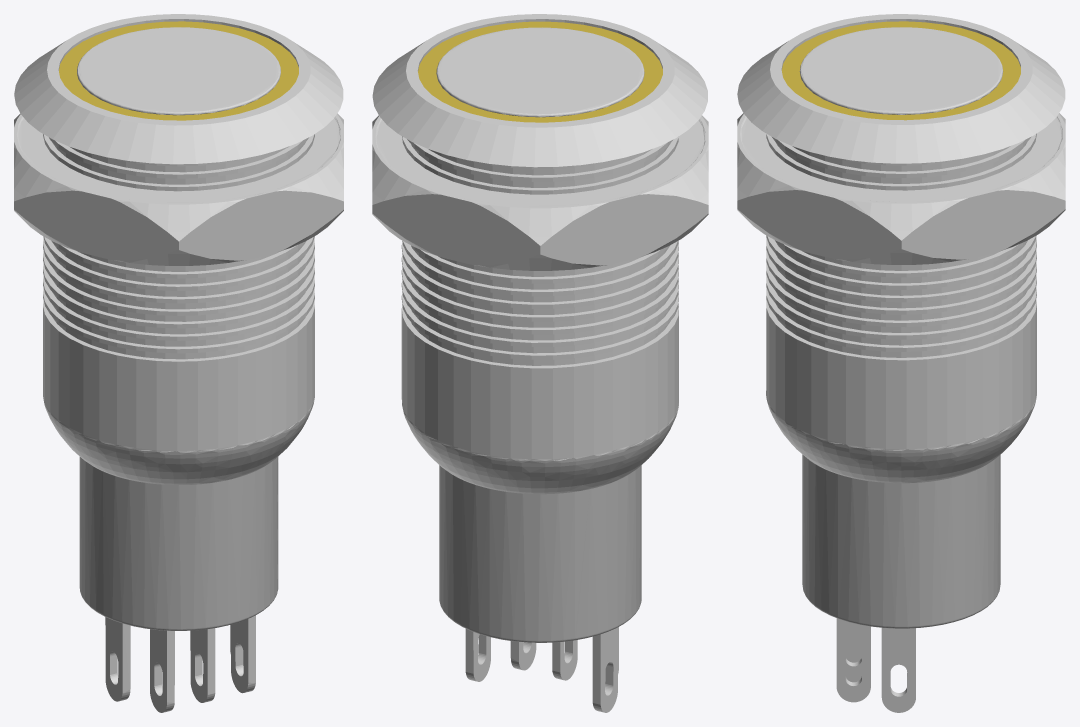
The model's file is Metal_Pushbutton_Yellow.dae.
3 views of the same model, side by side, from view 1: azimuth 30°, elevation 25°; view 2: azimuth 150°, elevation 25°; view 3: azimuth 270°, elevation 25° (orthographic). The views are drawn at different scales.
Visible parts, largest first — view 1: Metal_Pushbutton_Yellow; view 2: Metal_Pushbutton_Yellow; view 3: Metal_Pushbutton_Yellow.
Part boxes in pixels (left/top/right/bottom): Metal_Pushbutton_Yellow: left=14, top=14, right=343, bottom=712; Metal_Pushbutton_Yellow: left=372, top=14, right=708, bottom=712; Metal_Pushbutton_Yellow: left=737, top=14, right=1065, bottom=712.
Size of the model in its own units: 20.76 by 17.98 by 36.91.
